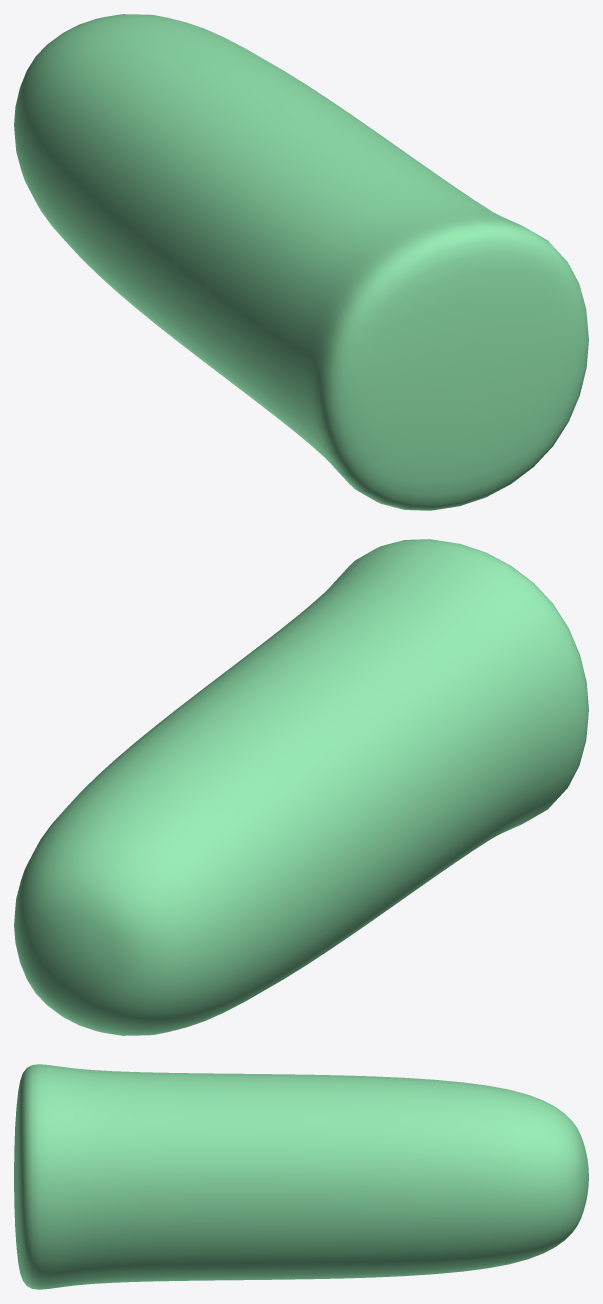
Rendered from snake_body3.fbx.
The picture shows the model from 3 angles, top to bottom: view 1: azimuth 30°, elevation 25°; view 2: azimuth 150°, elevation 25°; view 3: azimuth 270°, elevation 25°; orthographic projection. The views are drawn at different scales.
Parts seen in each view (by area): view 1: 立方体.003; view 2: 立方体.003; view 3: 立方体.003.
Part boxes in pixels (x1=…): 立方体.003: x1=14, y1=14, x2=588, y2=510; 立方体.003: x1=14, y1=539, x2=588, y2=1035; 立方体.003: x1=14, y1=1064, x2=588, y2=1289.
Size of the model in its own units: 38.96 by 38.96 by 101.
